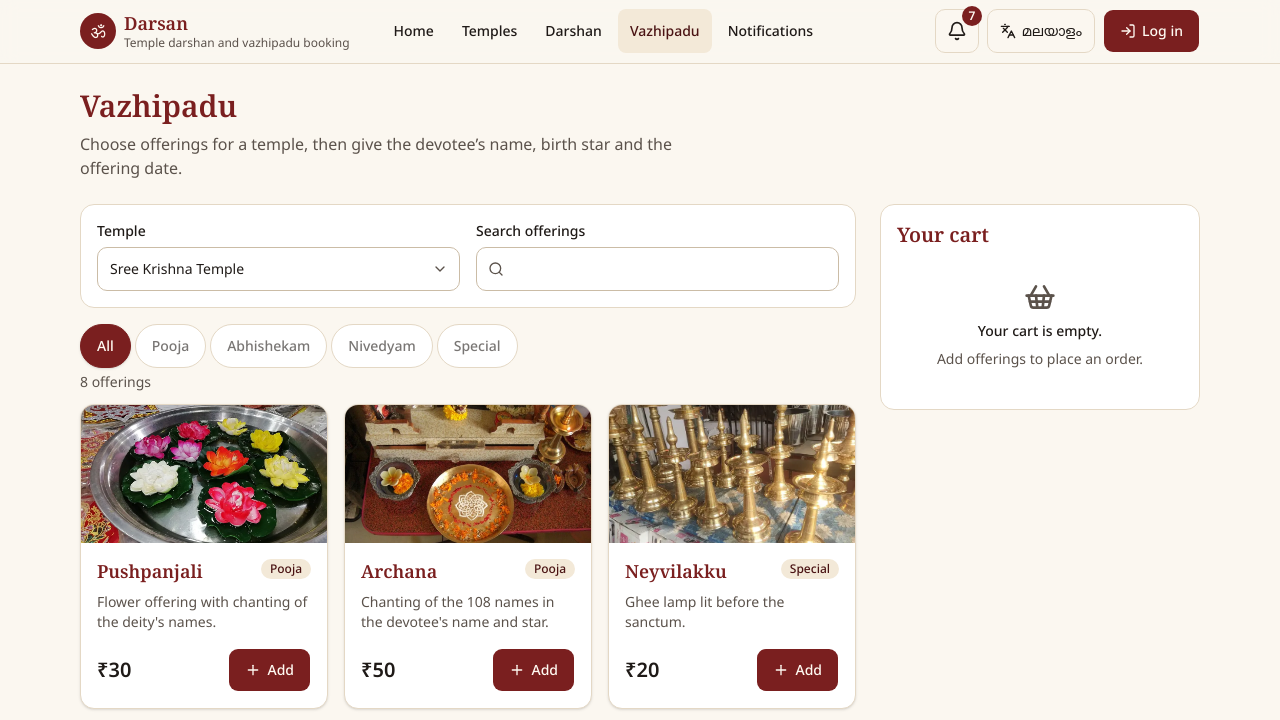
Test case: V1 · offerings list › filters by category tab
The image size is (1280, 720).
Expected: the text "8 offerings" is shown, [80, 372, 151, 390]
What coordinates should you click on to do the following:
click the tab "Nivedyam"
I would click on:
 (382, 346)
Its box is [331, 324, 433, 368].
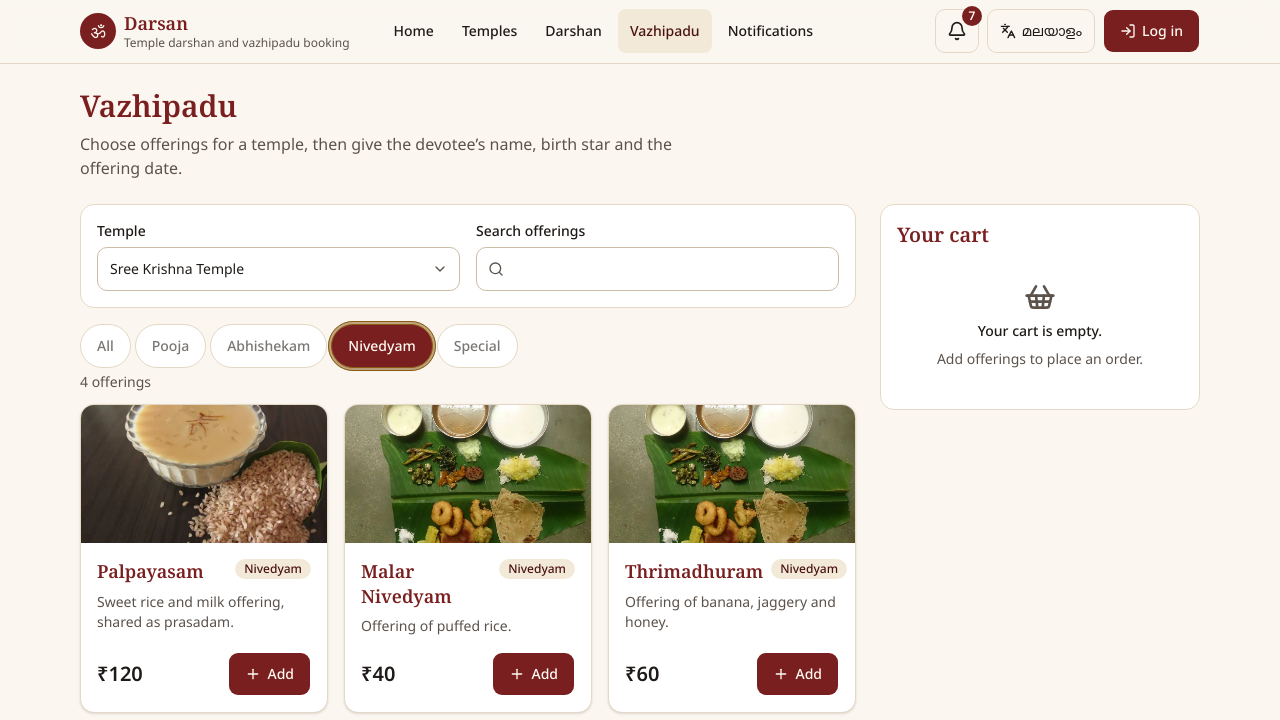
Expected: the text "4 offerings" is shown, [80, 372, 151, 390]
